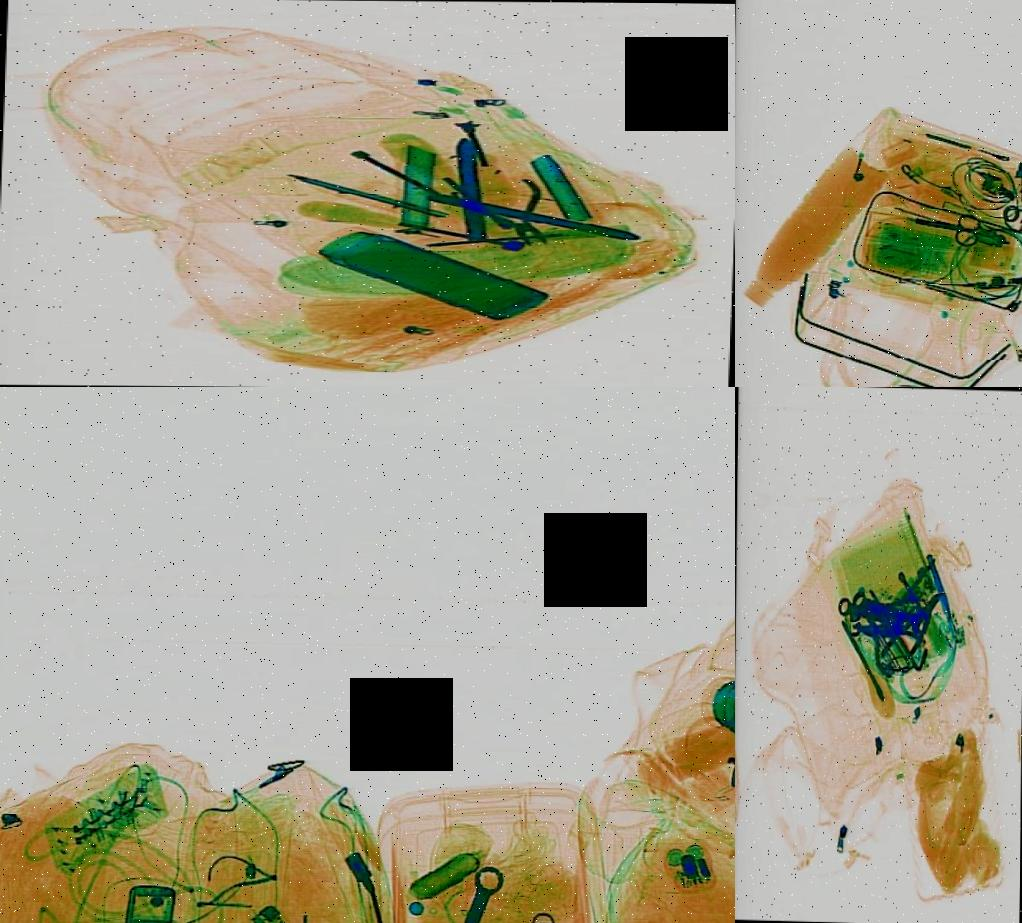Pliers: (438, 162, 574, 252)
Scissors: (912, 201, 978, 248)
Wrench: (398, 859, 508, 923), (836, 587, 930, 635)
